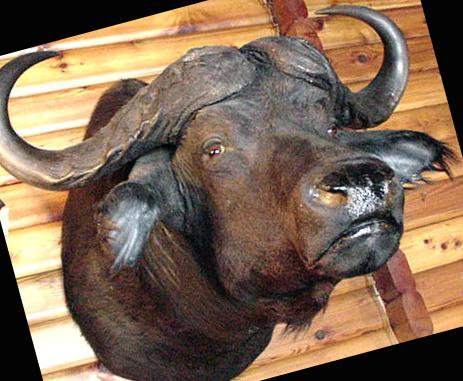Buffalo: (5, 0, 463, 381)
